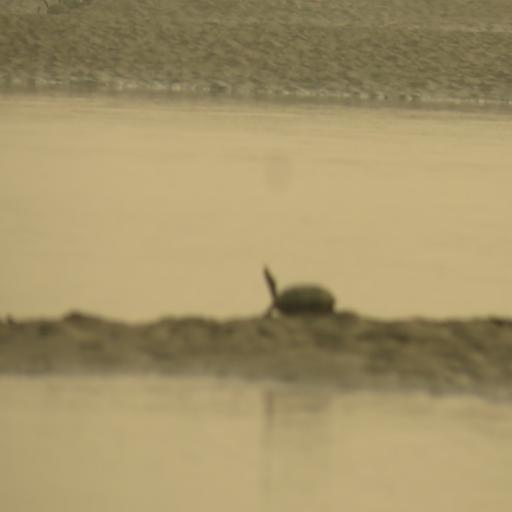turtle: (260, 259, 341, 326)
